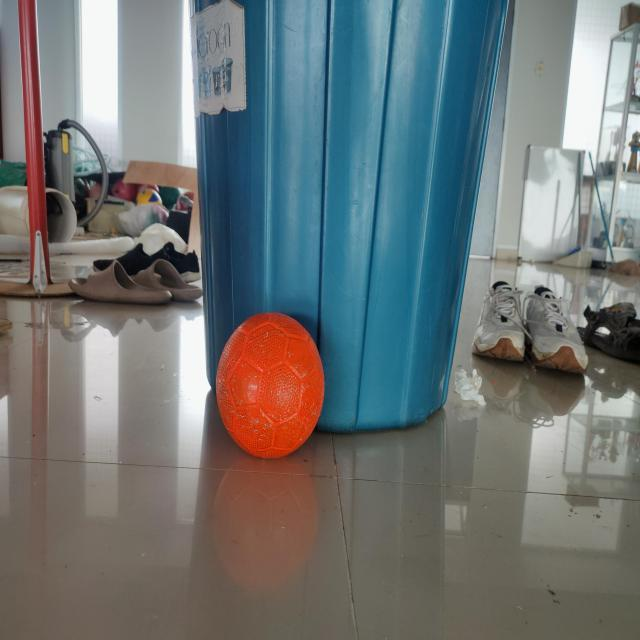bola: (217, 314, 331, 466)
